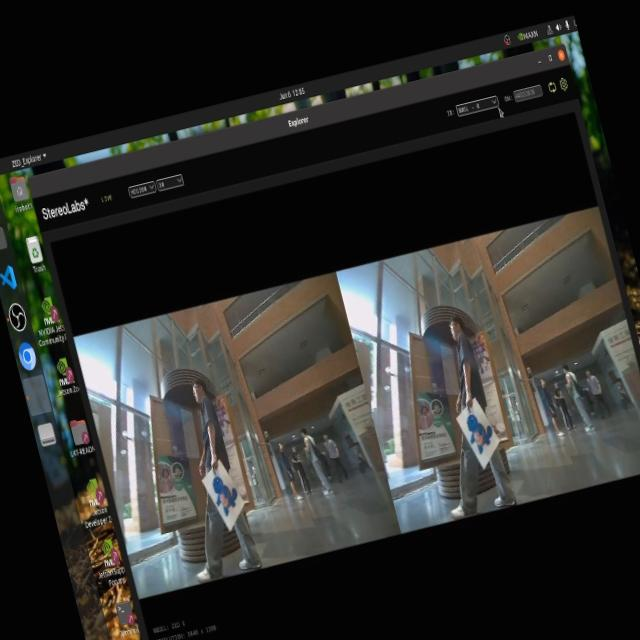blue: (207, 460, 256, 520), (458, 402, 499, 460)
